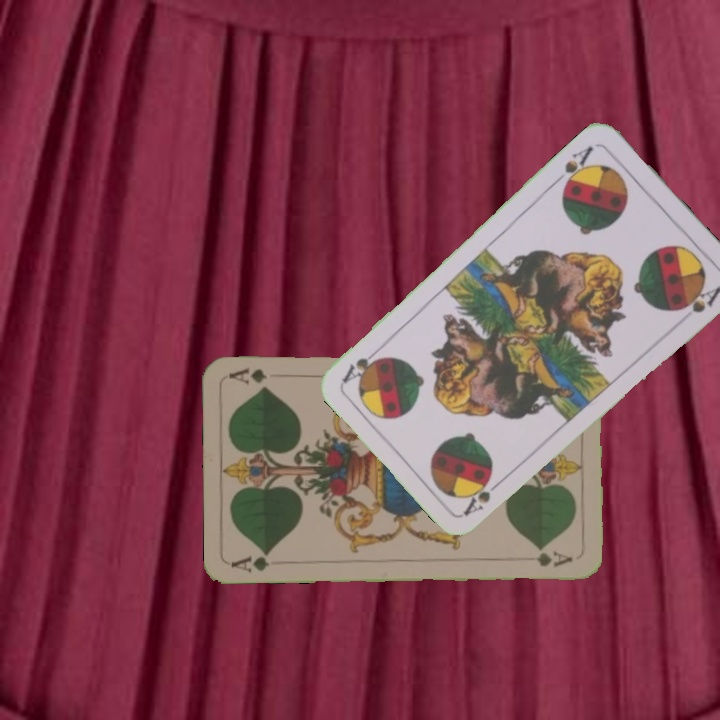GA: (228, 548, 274, 575)
SA: (459, 473, 508, 519), (551, 142, 596, 192)
